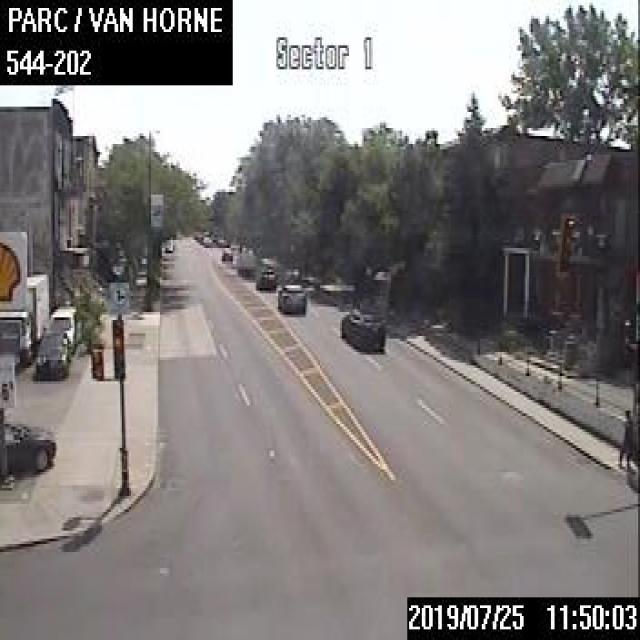pedestrian: (617, 407, 632, 467)
vehicle: (0, 271, 49, 364), (3, 420, 54, 471), (339, 305, 385, 350), (35, 329, 69, 376), (48, 303, 78, 353), (276, 282, 306, 312), (254, 266, 276, 288), (237, 258, 255, 276), (220, 246, 231, 259), (163, 240, 173, 251)
